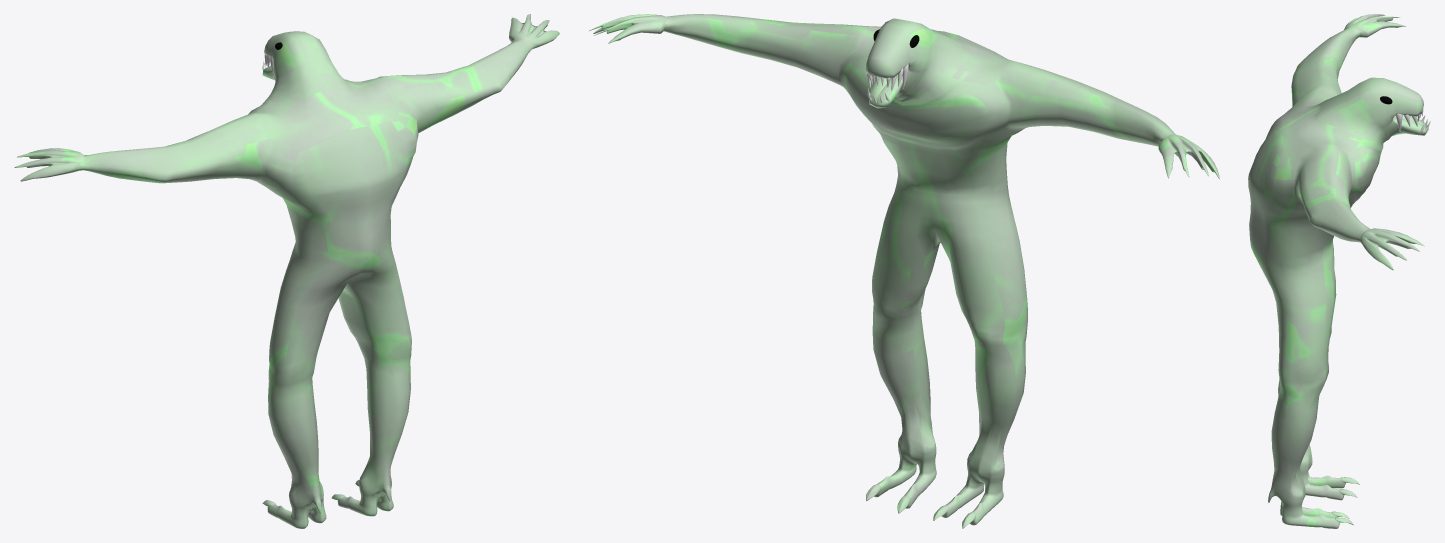
The model's file is Berserkeraranar.0011.obj.
3 views of the same model, side by side, from view 1: azimuth 30°, elevation 25°; view 2: azimuth 150°, elevation 25°; view 3: azimuth 270°, elevation 25° (orthographic). The views are drawn at different scales.
Visible parts, largest first — view 1: polySurface27; view 2: polySurface27; view 3: polySurface27.
Boxes of the visible parts, x1,y1,x2,y2 form: polySurface27: [14, 14, 559, 528]; polySurface27: [589, 14, 1219, 528]; polySurface27: [1248, 14, 1430, 528].
Bounding box in the file's own units: 30.37 × 24.12 × 9.25.
Materials: 1 (1 with a texture image).
